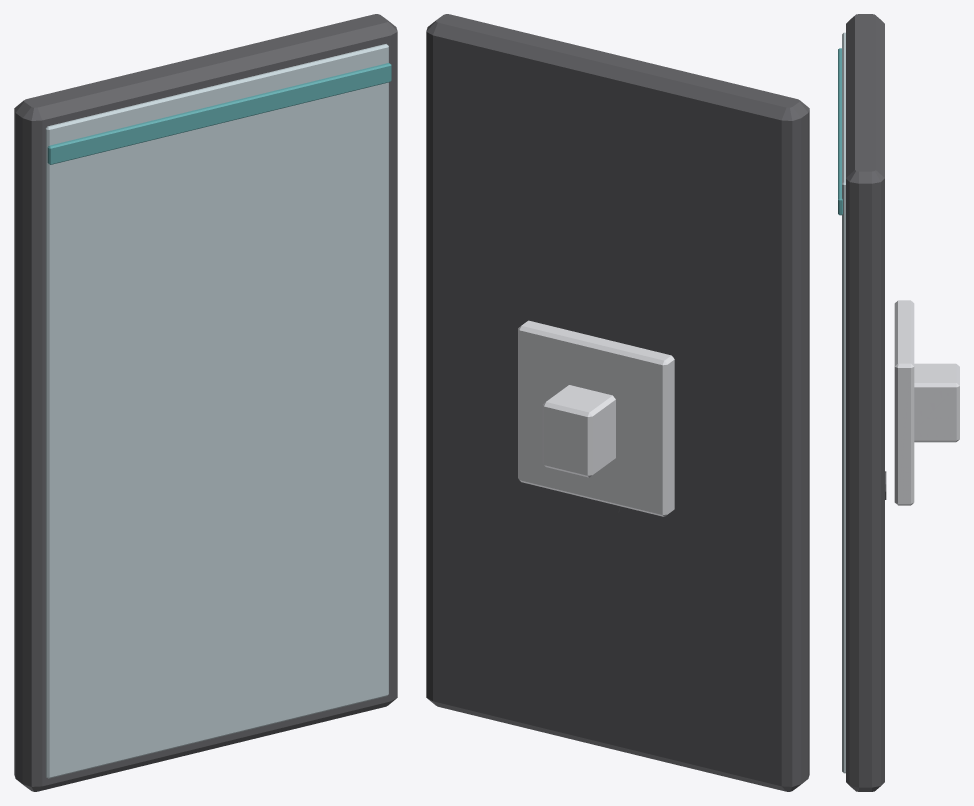
File: fast-food-and-drive-thru-digital-order-board-portrait-8bdc3988__16131.glb
3 views of the same model, side by side, from view 1: azimuth 30°, elevation 25°; view 2: azimuth 150°, elevation 25°; view 3: azimuth 270°, elevation 25° (orthographic). The views are drawn at different scales.
Visible parts, largest first — view 1: digital-order-board-portrait; view 2: digital-order-board-portrait; view 3: digital-order-board-portrait.
Part boxes in pixels (x1,y1,x2,y2): digital-order-board-portrait: (14, 14, 397, 791); digital-order-board-portrait: (426, 14, 809, 791); digital-order-board-portrait: (838, 14, 959, 791).
Size of the model in its own units: 0.6001 by 1.05 by 0.187.
